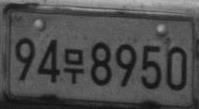0: (165, 45, 188, 91)
4: (37, 39, 60, 82)
5: (140, 45, 163, 89)
8: (89, 40, 112, 86)
9: (114, 42, 137, 86), (14, 36, 35, 80)
무: (62, 47, 84, 84)
